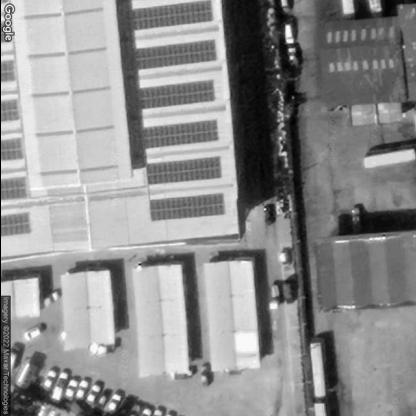solar-pv-panel: (135, 38, 217, 70), (132, 0, 210, 32), (138, 78, 214, 109), (146, 155, 219, 187), (149, 194, 224, 222), (144, 120, 217, 148), (0, 210, 30, 237), (0, 175, 29, 200), (1, 136, 21, 159), (0, 97, 20, 120), (0, 60, 14, 82)
